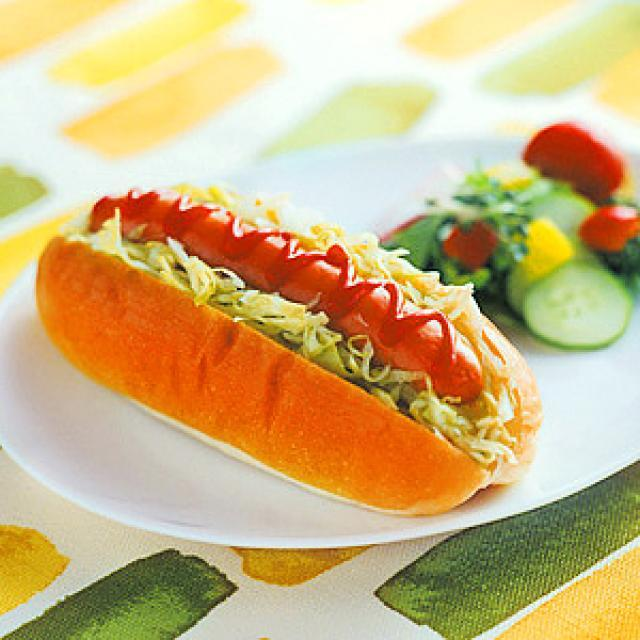Hot Dog: (41, 176, 524, 502)
